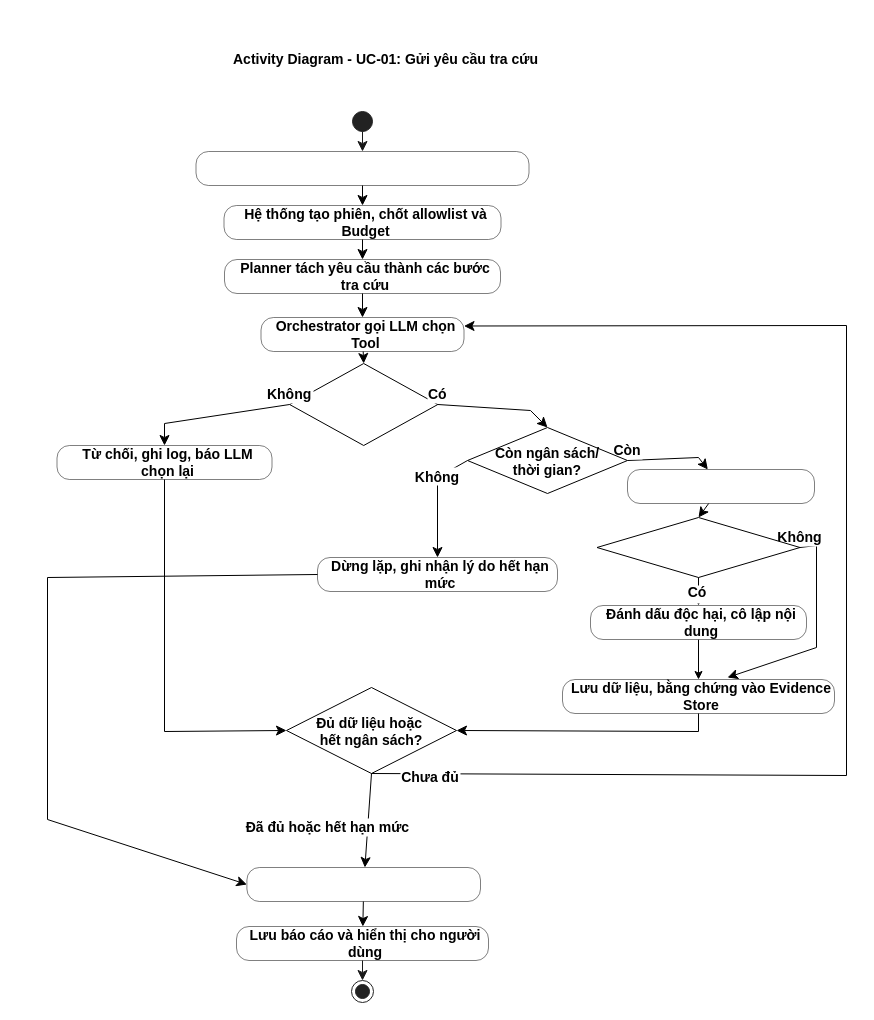
Image size: 874x1020. Some labels were removed from this diagram. Here are the shapes that lost their labels. From the top down, the box of each, then its label:
(195, 151, 529, 185): Người dùng nhập câu hỏi, chọn nguồn và đặt hạn mức
(289, 362, 438, 446): Tool có trong allowlist?
(627, 469, 814, 503): Gọi Tool (chỉ đọc) lấy dữ liệu
(596, 516, 800, 578): Phát hiện Prompt Injection?
(246, 867, 480, 901): tổng hợp báo cáo, gắn trích dẫn
